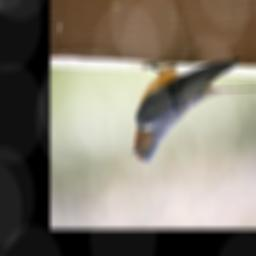Swallow: (131, 58, 256, 166)
